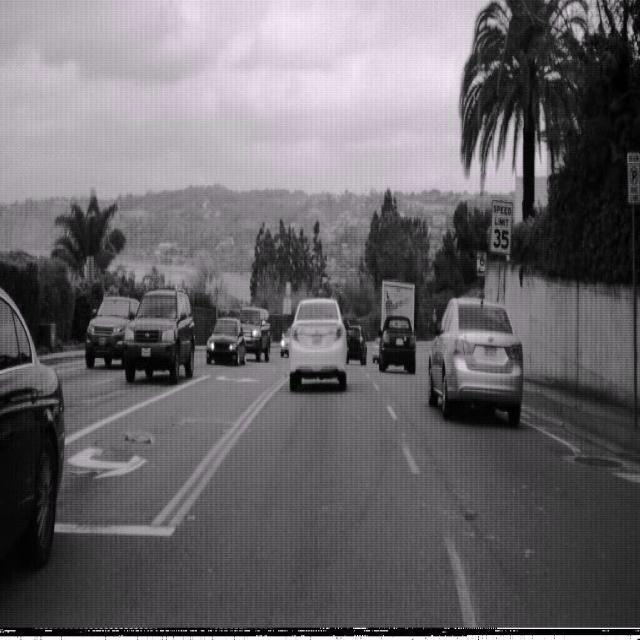speedLimit35: (489, 197, 513, 255)
